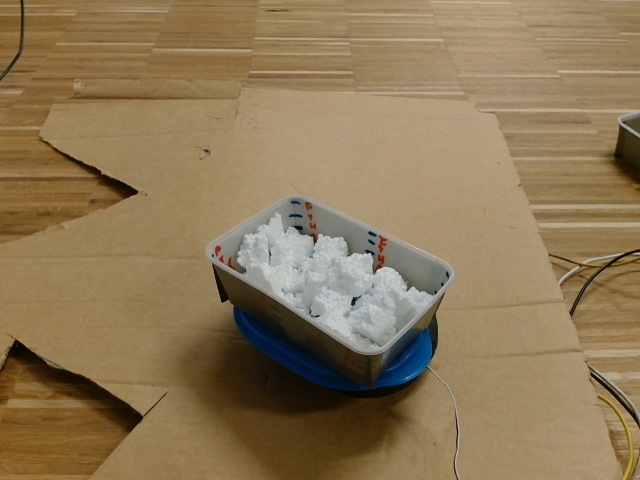Small_half: (208, 194, 454, 359)
